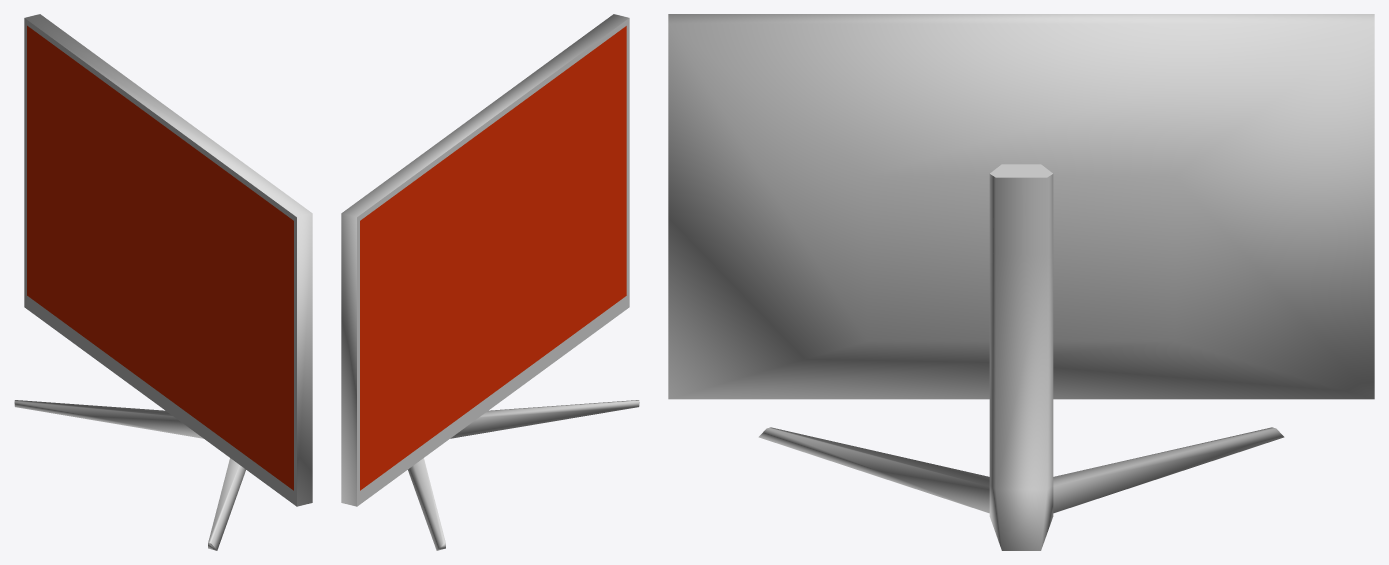
Rendered from Computer_monitor.fbx.
3 renders of one model, left to right at view 1: azimuth 30°, elevation 25°; view 2: azimuth 150°, elevation 25°; view 3: azimuth 270°, elevation 25°, orthographic. The views are drawn at different scales.
Parts seen in each view (by area): view 1: Monitor_Low; view 2: Monitor_Low; view 3: Monitor_Low.
Part boxes in pixels (x1,y1,x2,y2): Monitor_Low: (14,14,312,550); Monitor_Low: (341,14,639,550); Monitor_Low: (668,14,1374,550).
Bounding box in the file's own units: 24.04 × 43.46 × 61.62.
